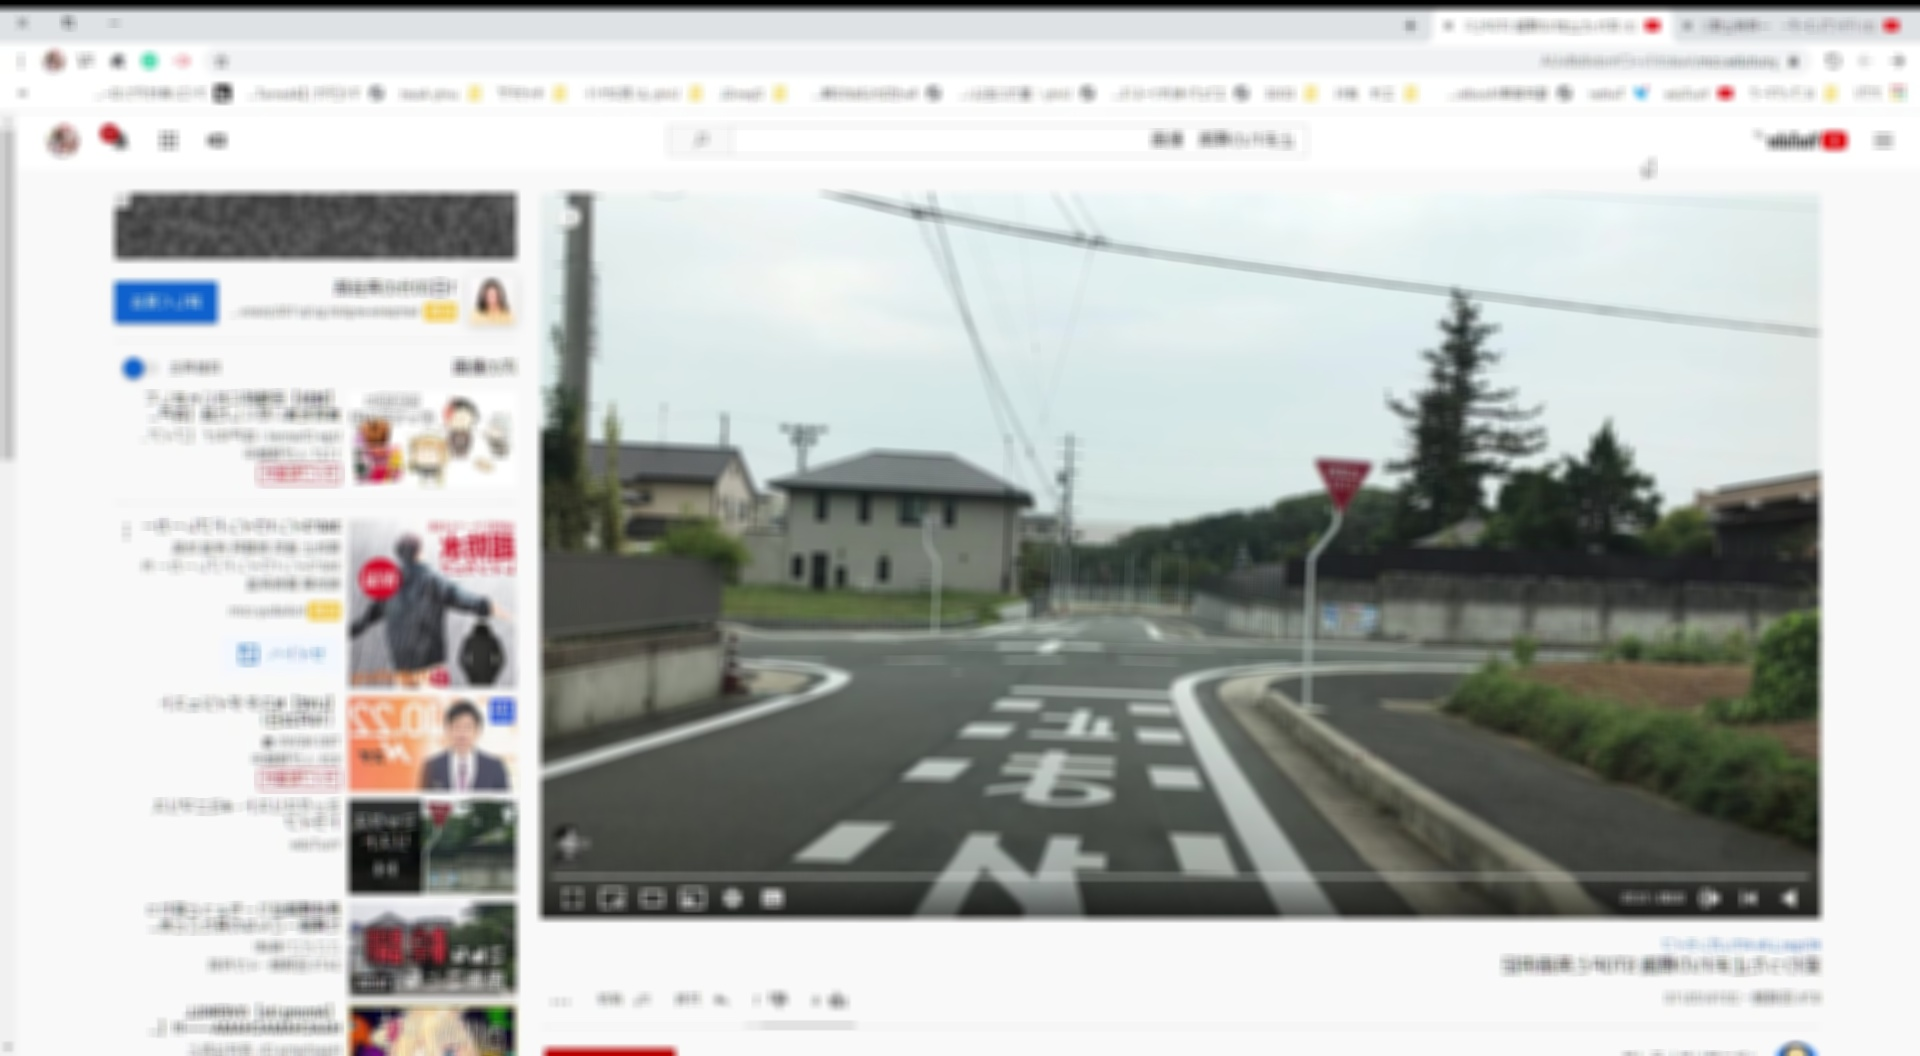Regulatory_sign_triangle: (1321, 455, 1366, 512)
